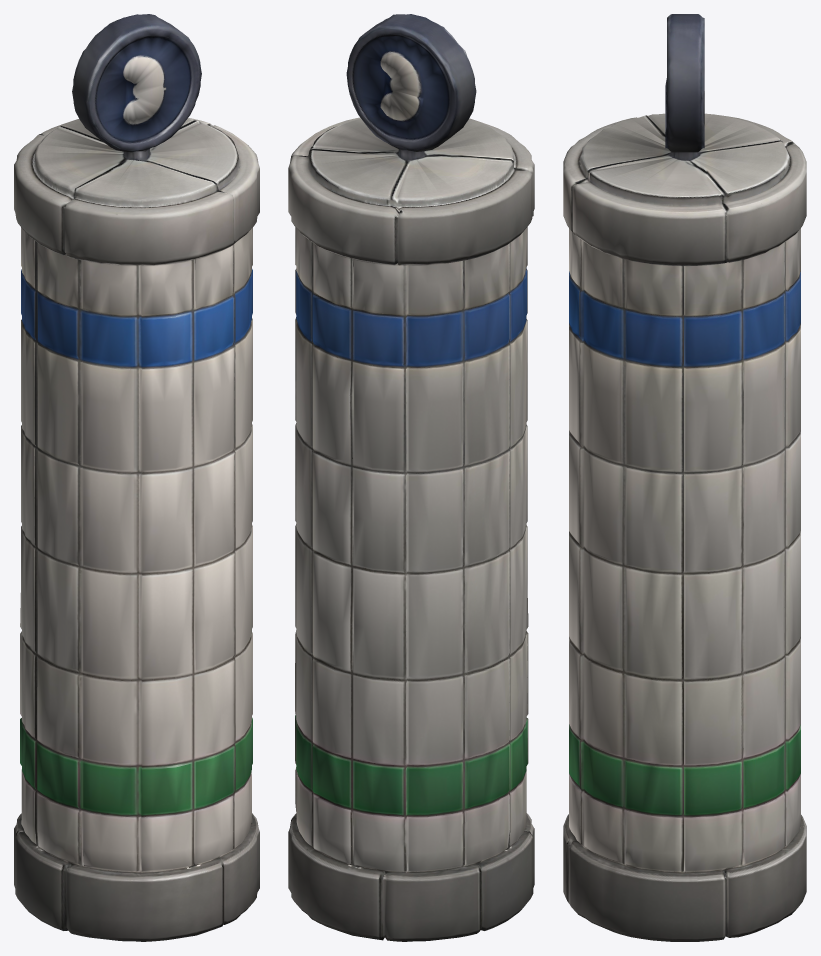
File: decor_6.fbx
The picture shows the model from 3 angles, left to right: view 1: azimuth 30°, elevation 25°; view 2: azimuth 150°, elevation 25°; view 3: azimuth 270°, elevation 25°; orthographic projection.
Parts seen in each view (by area): view 1: decor_6; view 2: decor_6; view 3: decor_6.
Part boxes in pixels (left/top/right/bottom): decor_6: left=14, top=14, right=259, bottom=941; decor_6: left=288, top=14, right=534, bottom=941; decor_6: left=563, top=14, right=806, bottom=941.
Size of the model in its own units: 0.6067 by 2.4 by 0.6067.
